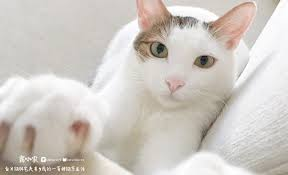cat: (124, 1, 248, 115)
